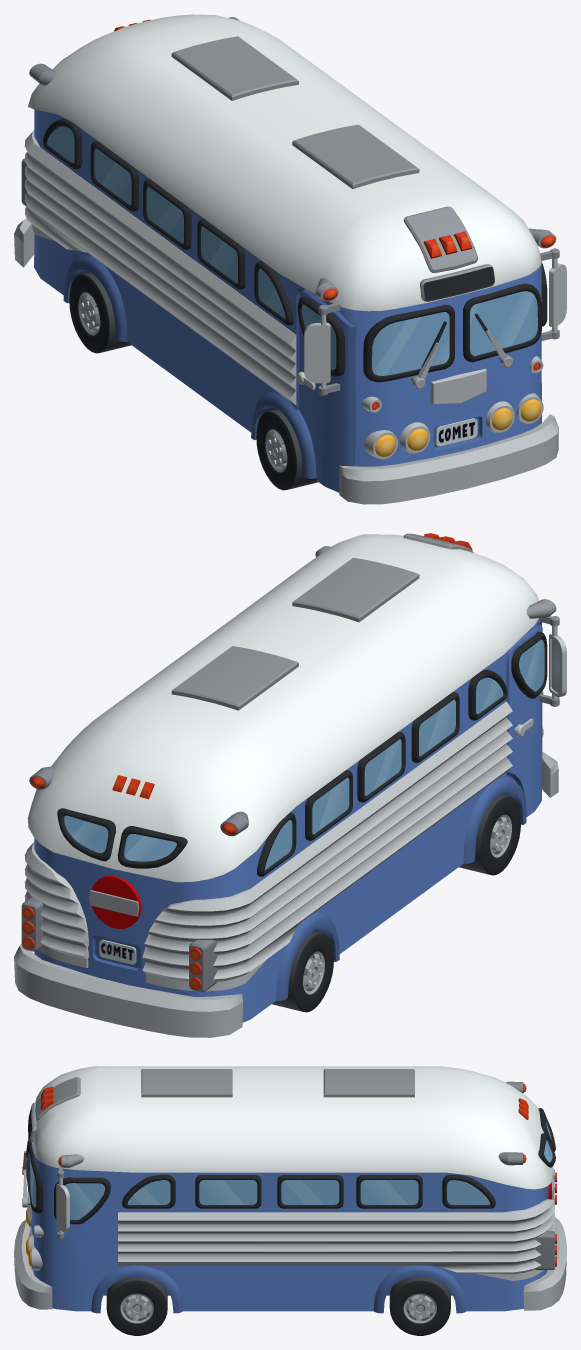
File: IntercityBus_GRP.fbx
3 views of the same model, one above another, from view 1: azimuth 30°, elevation 25°; view 2: azimuth 150°, elevation 25°; view 3: azimuth 270°, elevation 25° (orthographic). The views are drawn at different scales.
Parts seen in each view (by area): view 1: IntercityBus_mesh, IntercityBus_Wheel_BR_mesh, IntercityBus_Wheel_FR_mesh; view 2: IntercityBus_mesh, IntercityBus_Wheel_FR_mesh, IntercityBus_Wheel_BR_mesh; view 3: IntercityBus_mesh, IntercityBus_Wheel_FL_mesh, IntercityBus_Wheel_BL_mesh.
Boxes of the visible parts, bbox=[...] form: IntercityBus_mesh: bbox=[14, 14, 566, 504]; IntercityBus_Wheel_BR_mesh: bbox=[69, 272, 131, 353]; IntercityBus_Wheel_FR_mesh: bbox=[256, 409, 318, 490]; IntercityBus_mesh: bbox=[14, 533, 566, 1037]; IntercityBus_Wheel_FR_mesh: bbox=[459, 794, 520, 875]; IntercityBus_Wheel_BR_mesh: bbox=[272, 931, 333, 1012]; IntercityBus_mesh: bbox=[14, 1066, 566, 1313]; IntercityBus_Wheel_FL_mesh: bbox=[106, 1277, 167, 1335]; IntercityBus_Wheel_BL_mesh: bbox=[389, 1277, 450, 1335].
Bounding box in the file's own units: 2.25 × 2.32 × 5.42.
